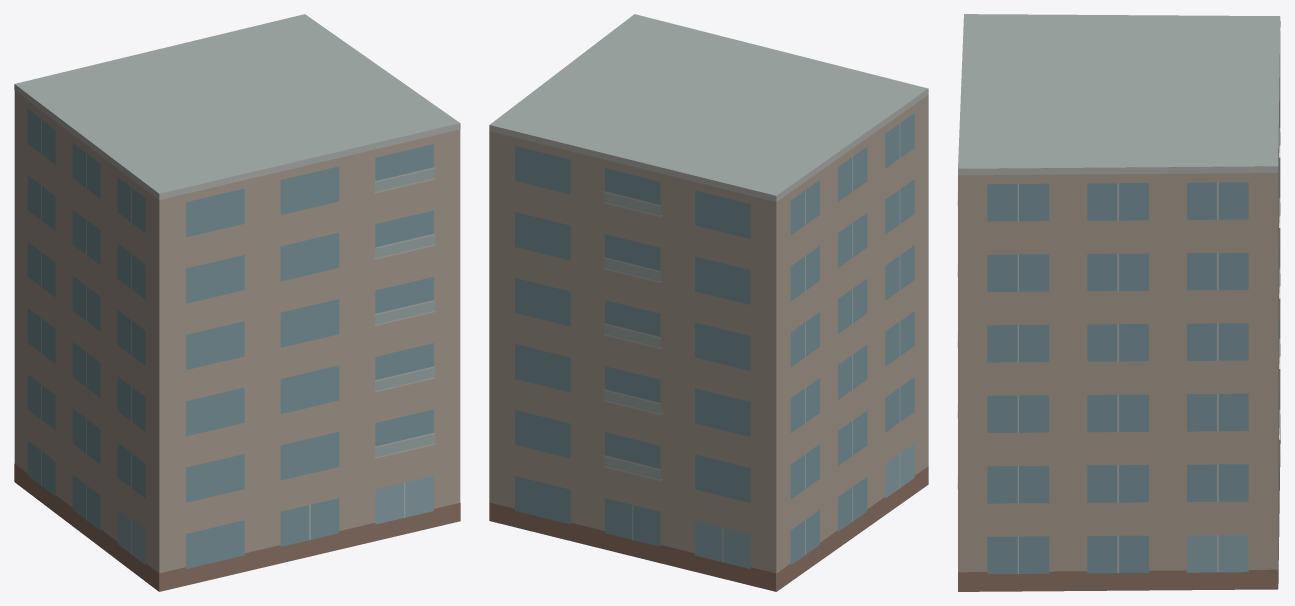
Rendered from survey-upis-32890012.glb.
3 renders of one model, left to right at view 1: azimuth 30°, elevation 25°; view 2: azimuth 150°, elevation 25°; view 3: azimuth 270°, elevation 25°, orthographic. The views are drawn at different scales.
Visible parts, largest first — view 1: survey-upis-32890012.tmp; view 2: survey-upis-32890012.tmp; view 3: survey-upis-32890012.tmp.
Part boxes in pixels (x1,y1,x2,y2): survey-upis-32890012.tmp: [14, 14, 460, 591]; survey-upis-32890012.tmp: [489, 14, 928, 591]; survey-upis-32890012.tmp: [957, 14, 1280, 591].
Bounding box in the file's own units: 12.17 × 15.5 × 10.74.
